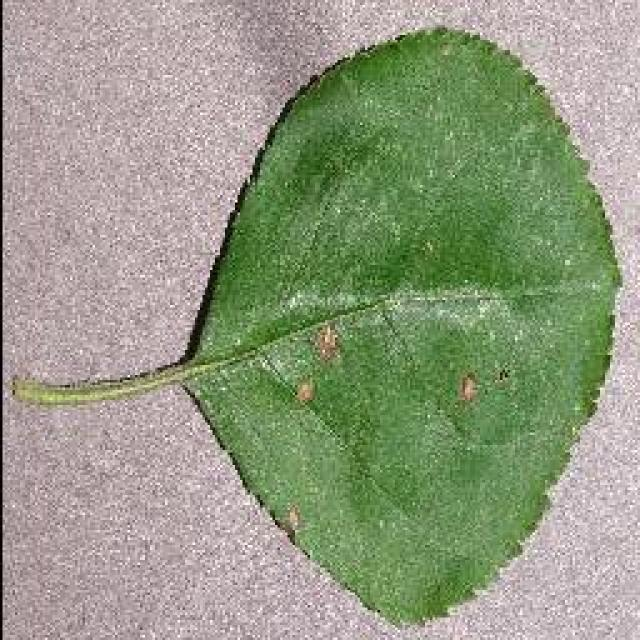Black_rot: (10, 22, 622, 630)
